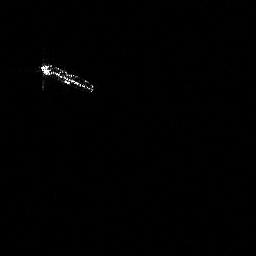ship: (37, 60, 97, 96)
